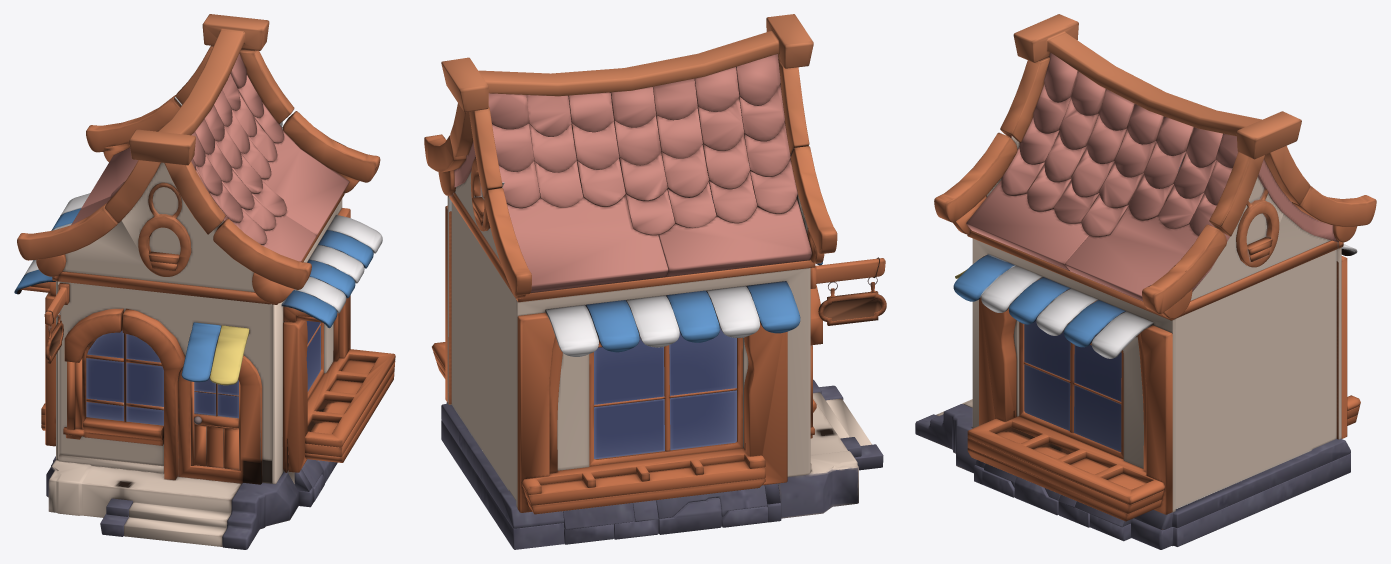
File: case_set1_casa3_LODs.fbx
3 renders of one model, left to right at view 1: azimuth 30°, elevation 25°; view 2: azimuth 150°, elevation 25°; view 3: azimuth 270°, elevation 25°, orthographic. The views are drawn at different scales.
Visible parts, largest first — view 1: case_set1_casa3_LOD0; view 2: case_set1_casa3_LOD0; view 3: case_set1_casa3_LOD0.
Boxes of the visible parts, x1,y1,x2,y2 form: case_set1_casa3_LOD0: (14, 14, 395, 549); case_set1_casa3_LOD0: (424, 14, 886, 549); case_set1_casa3_LOD0: (915, 14, 1376, 549).
Size of what is drawn, in the model's own units: 560 by 535 by 566.
